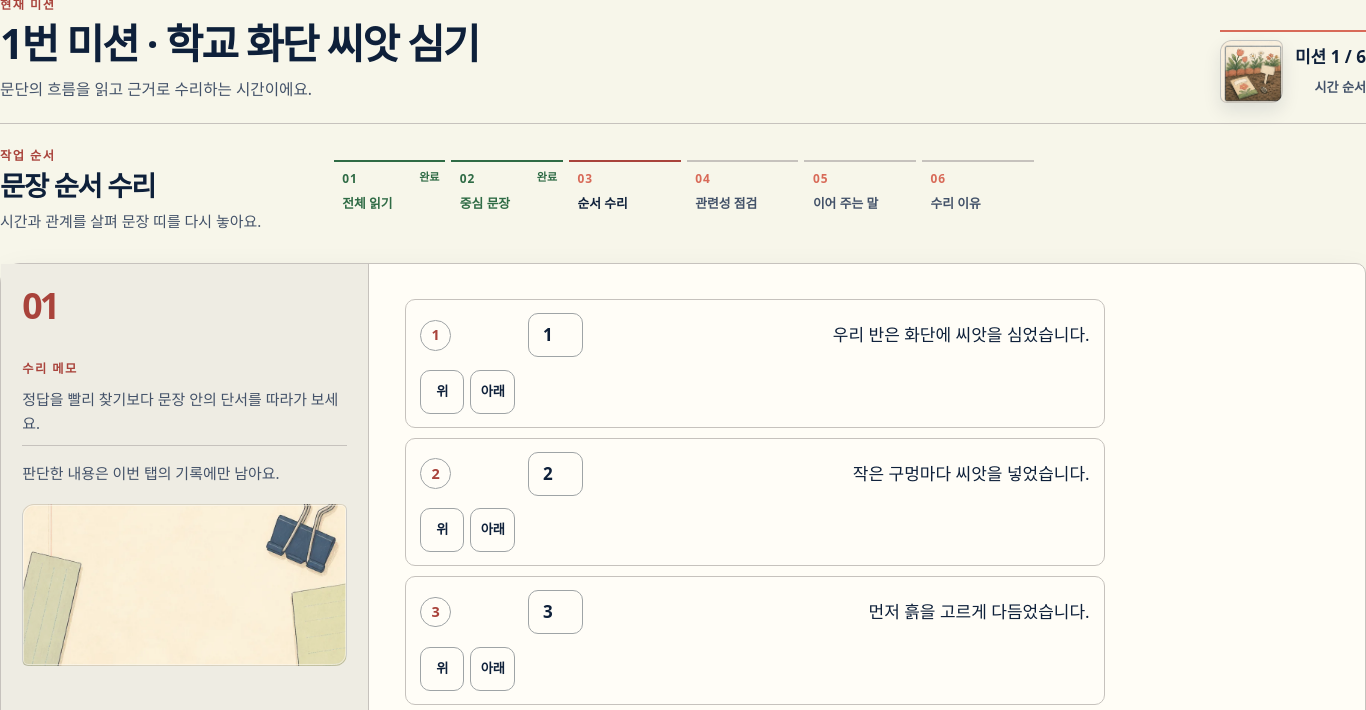
Test: 순서 수리 단계 › 한 쌍이 뒤집힌 순서는 근거를 보여 주고 정답을 공개하지 않는다
This screenshot has width=1366, height=710.
Click the 3rd button "위". click: (442, 669)
box: [420, 647, 464, 691]
(page scrolled)
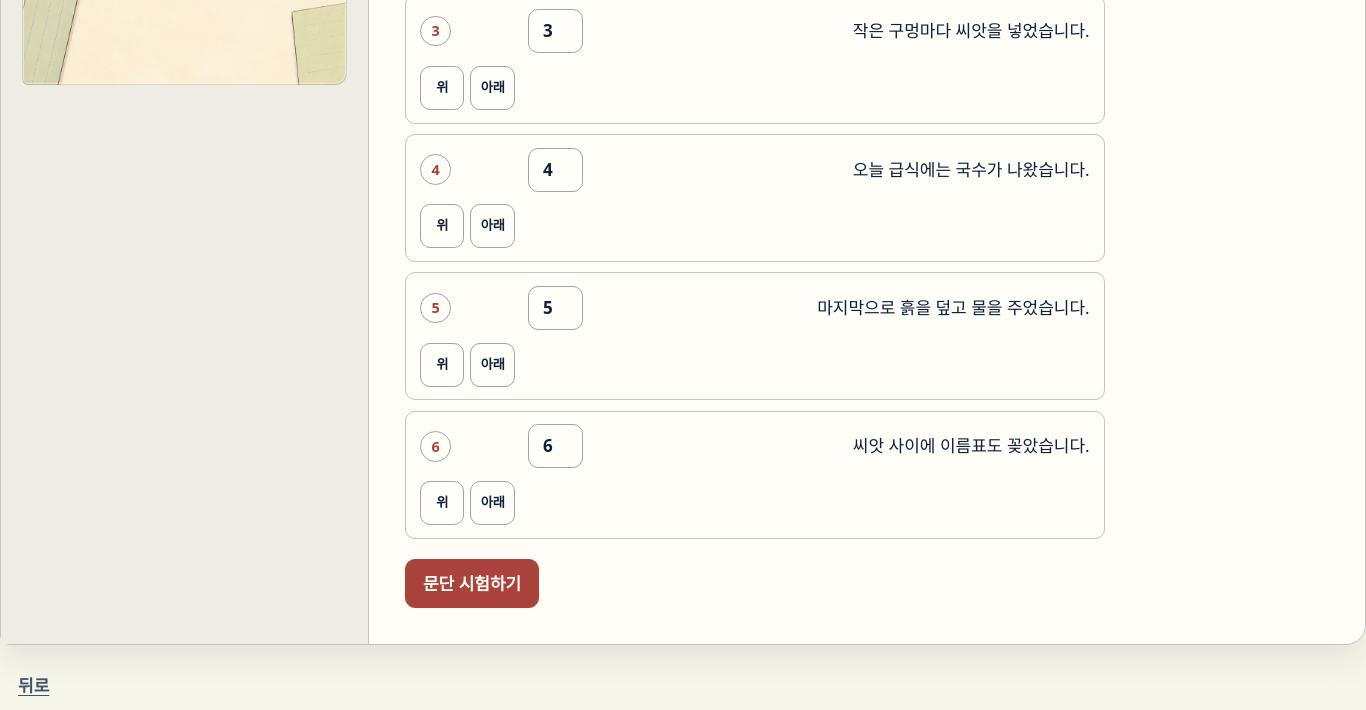
Click the button "문단 시험하기". click: (472, 584)
box: [405, 559, 539, 608]
(page scrolled)
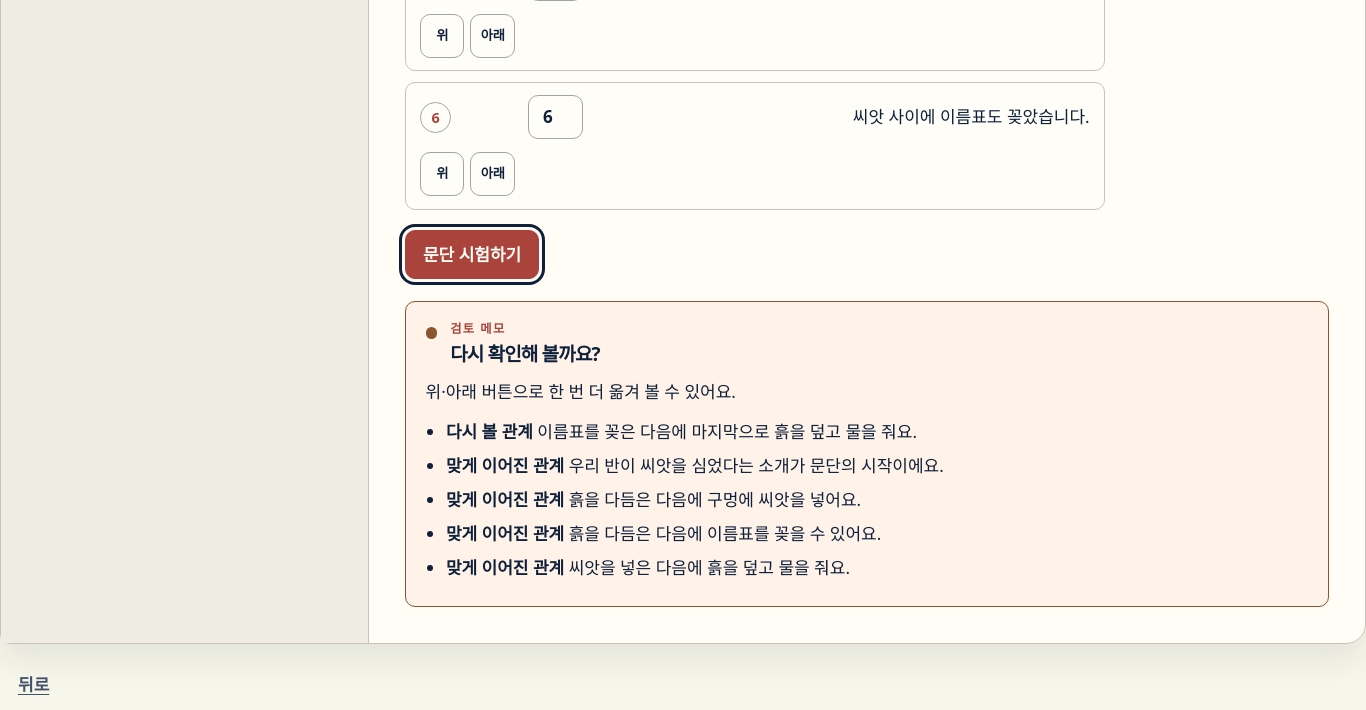
Check: the message does not show "G1-G2-G3-G4-G5", box [405, 301, 1329, 607]
Check: the message shows "이름표를 꽂은 다음에 마지막으로 흙을 덮고 물을 줘요.", box [537, 420, 917, 443]
